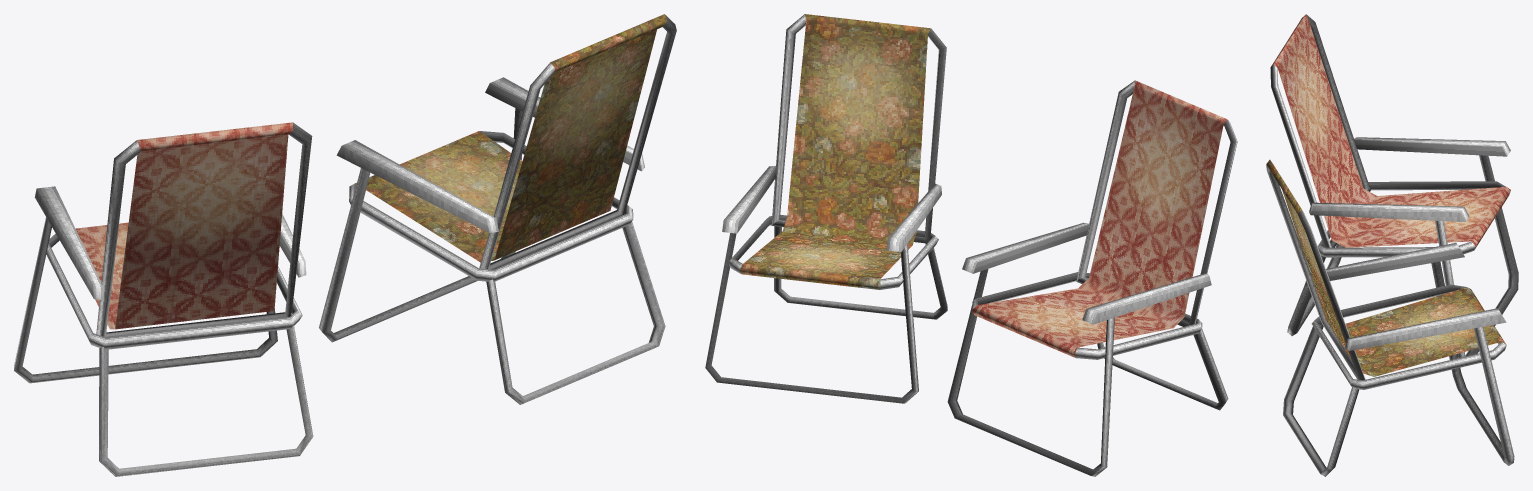
Rendered from camping-chairs.glb.
3 renders of one model, left to right at view 1: azimuth 30°, elevation 25°; view 2: azimuth 150°, elevation 25°; view 3: azimuth 270°, elevation 25°, orthographic. The views are drawn at different scales.
Visible parts, largest first — view 1: Plane.002_1, Plane.001_0; view 2: Plane.001_0, Plane.002_1; view 3: Plane.002_1, Plane.001_0.
Part boxes in pixels (x1,y1,x2,y2): Plane.002_1: [14, 122, 313, 476]; Plane.001_0: [319, 14, 676, 404]; Plane.001_0: [705, 14, 947, 403]; Plane.002_1: [947, 80, 1237, 476]; Plane.002_1: [1270, 14, 1518, 357]; Plane.001_0: [1266, 159, 1514, 476].
Size of the model in its own units: 3.4 by 2.02 by 1.74.
Materials: 2 (2 with a texture image).
